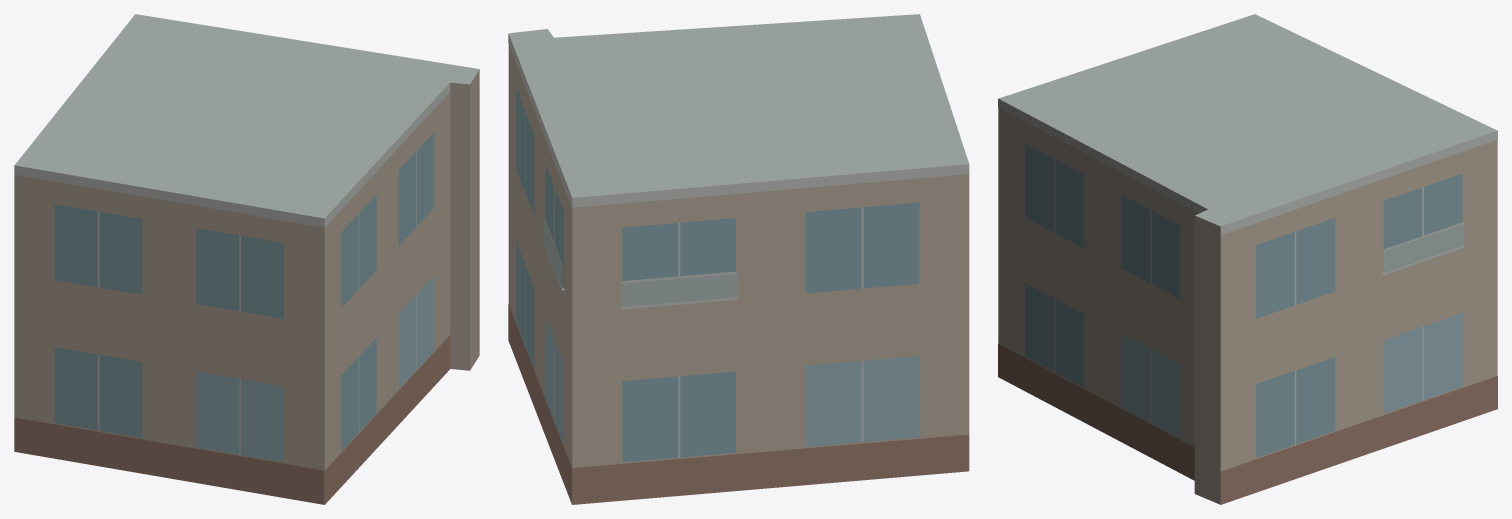
Rendered from survey-upis-32590978.glb.
3 renders of one model, left to right at view 1: azimuth 30°, elevation 25°; view 2: azimuth 150°, elevation 25°; view 3: azimuth 270°, elevation 25°, orthographic. The views are drawn at different scales.
Visible parts, largest first — view 1: survey-upis-32590978.tmp; view 2: survey-upis-32590978.tmp; view 3: survey-upis-32590978.tmp.
Part boxes in pixels (x1,y1,x2,y2): survey-upis-32590978.tmp: (14, 14, 479, 504); survey-upis-32590978.tmp: (508, 14, 969, 504); survey-upis-32590978.tmp: (998, 14, 1497, 504).
Size of the model in its own units: 12.44 by 7.6 by 12.36.
